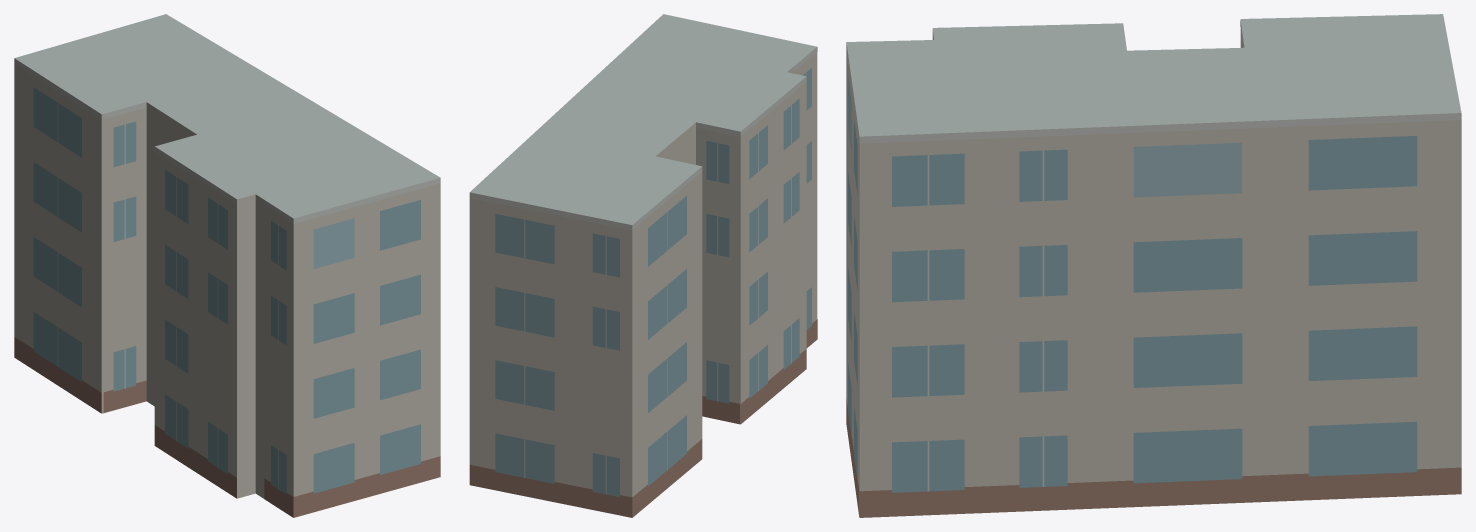
Rendered from survey-upis-32469219.glb.
3 views of the same model, side by side, from view 1: azimuth 30°, elevation 25°; view 2: azimuth 150°, elevation 25°; view 3: azimuth 270°, elevation 25° (orthographic). The views are drawn at different scales.
Parts seen in each view (by area): view 1: survey-upis-32469219.tmp; view 2: survey-upis-32469219.tmp; view 3: survey-upis-32469219.tmp.
Boxes of the visible parts, left/top/right/bottom form: survey-upis-32469219.tmp: left=14, top=14, right=440, bottom=517; survey-upis-32469219.tmp: left=469, top=14, right=817, bottom=517; survey-upis-32469219.tmp: left=846, top=14, right=1461, bottom=517.
Size of the model in its own units: 9.21 by 13.33 by 19.5.
